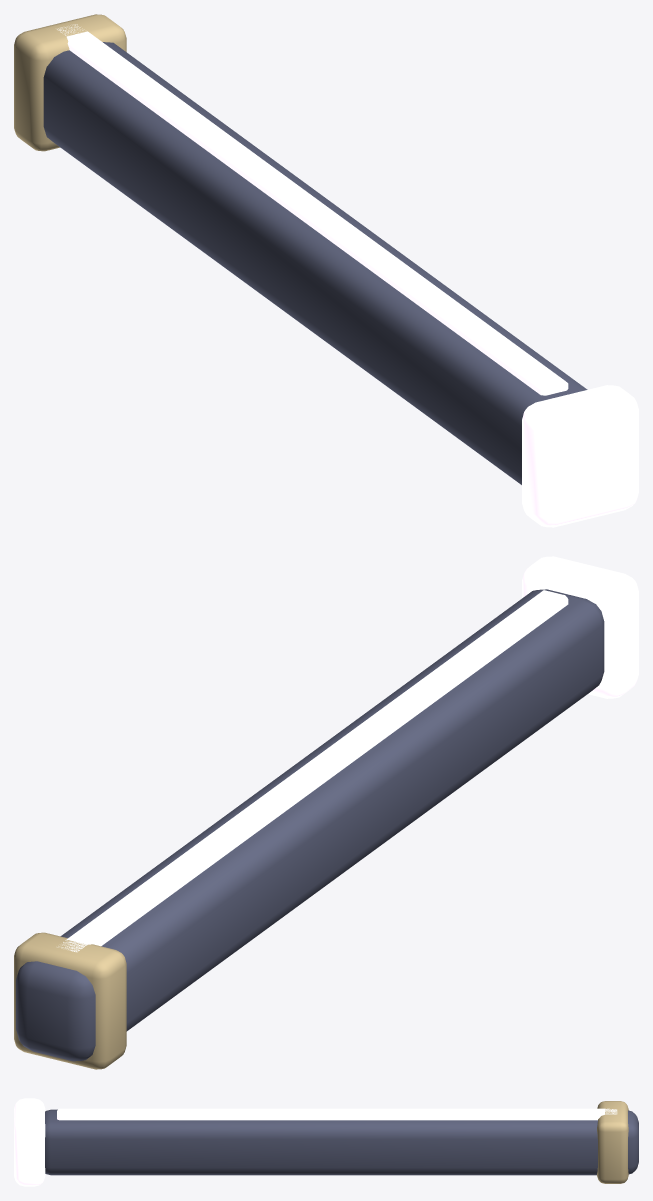
The model's file is RotorArm2.fbx.
The picture shows the model from 3 angles, top to bottom: view 1: azimuth 30°, elevation 25°; view 2: azimuth 150°, elevation 25°; view 3: azimuth 270°, elevation 25°; orthographic projection. The views are drawn at different scales.
Visible parts, largest first — view 1: Bar, Strip, Tip, Collar; view 2: Bar, Strip, Tip, Collar; view 3: Bar, Strip, Tip, Collar.
Boxes of the visible parts, x1,y1,x2,y2 form: Bar: (43,42,587,484); Strip: (57,24,568,395); Tip: (522,385,638,527); Collar: (14,14,126,151); Bar: (16,589,604,1061); Strip: (57,590,568,952); Tip: (522,556,638,698); Collar: (14,932,126,1069); Bar: (45,1109,638,1175); Strip: (57,1108,617,1120); Tip: (14,1098,45,1186); Collar: (597,1101,628,1183).
Bounding box in the file's own units: 0.26 × 0.28 × 2.39.
